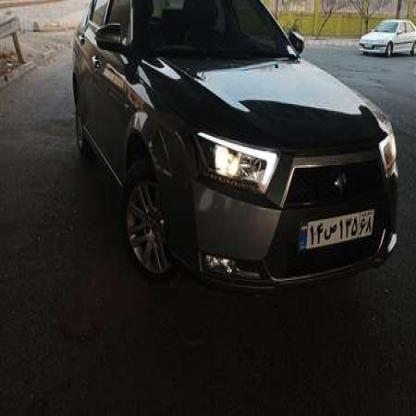Car: (60, 0, 401, 301), (355, 15, 416, 57)
